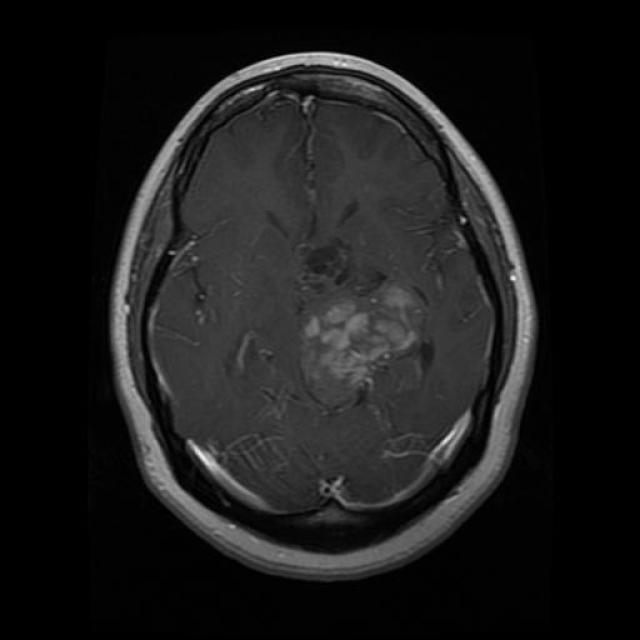brain_tumor: (300, 284, 426, 409)
